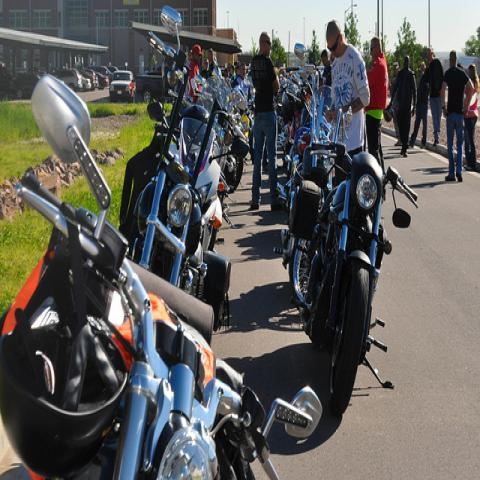car: (9, 72, 42, 100), (110, 68, 134, 104), (53, 68, 83, 92), (86, 66, 114, 84), (80, 70, 98, 90), (95, 72, 109, 91), (82, 77, 91, 89), (106, 66, 119, 72)
motorcycle: (11, 76, 325, 476), (119, 3, 249, 332), (312, 155, 411, 411), (278, 87, 351, 300), (149, 100, 207, 175), (278, 73, 314, 170)
truck: (136, 58, 170, 104)
